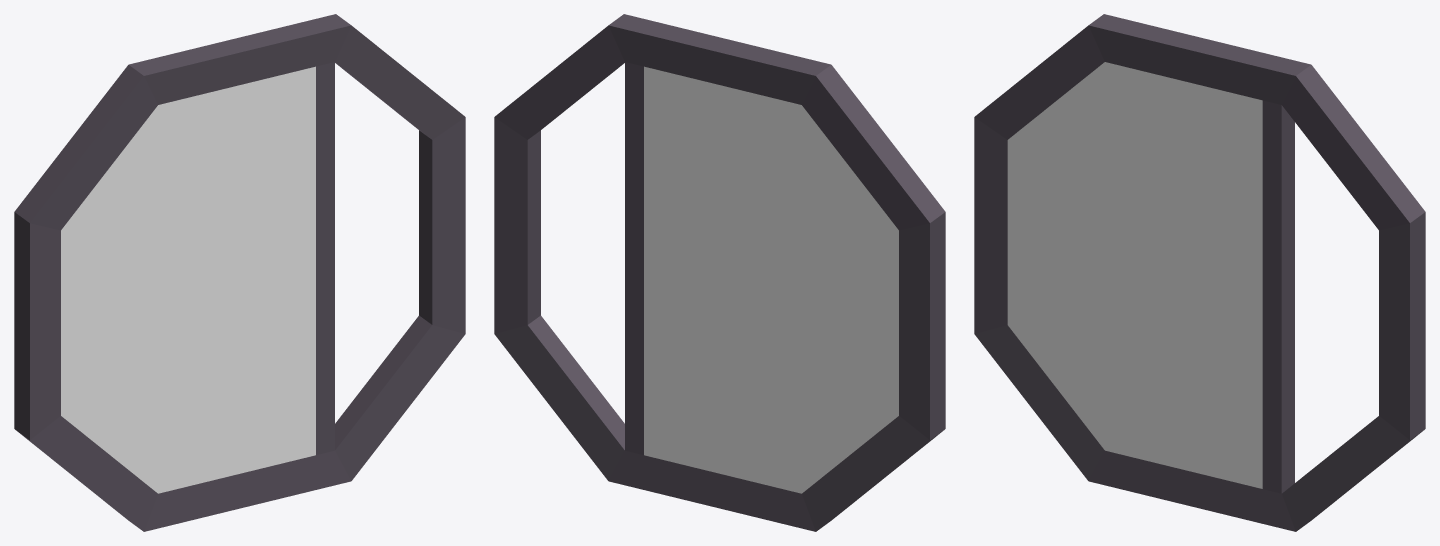
File: Obstacle05.fbx
The picture shows the model from 3 angles, left to right: view 1: azimuth 30°, elevation 25°; view 2: azimuth 150°, elevation 25°; view 3: azimuth 330°, elevation 25°; orthographic projection.
Parts seen in each view (by area): view 1: Obstacle05; view 2: Obstacle05; view 3: Obstacle05.
Boxes of the visible parts, x1,y1,x2,y2 form: Obstacle05: (14,14,465,531); Obstacle05: (494,14,945,531); Obstacle05: (974,14,1425,531).
Bounding box in the file's own units: 49.27 × 49.27 × 3.05.
